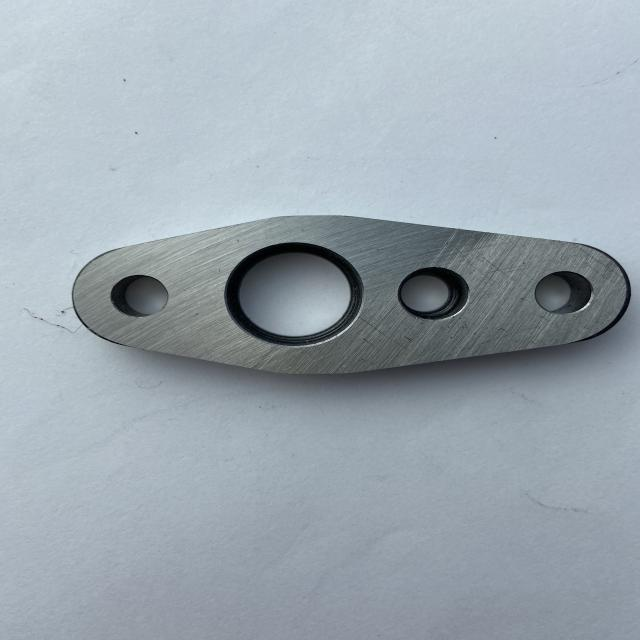chap: (437, 320, 456, 330), (458, 316, 470, 330), (520, 261, 526, 265), (496, 327, 502, 331)
lines: (362, 317, 413, 353), (472, 266, 526, 286), (458, 248, 496, 270), (582, 254, 606, 272), (600, 265, 618, 286)
